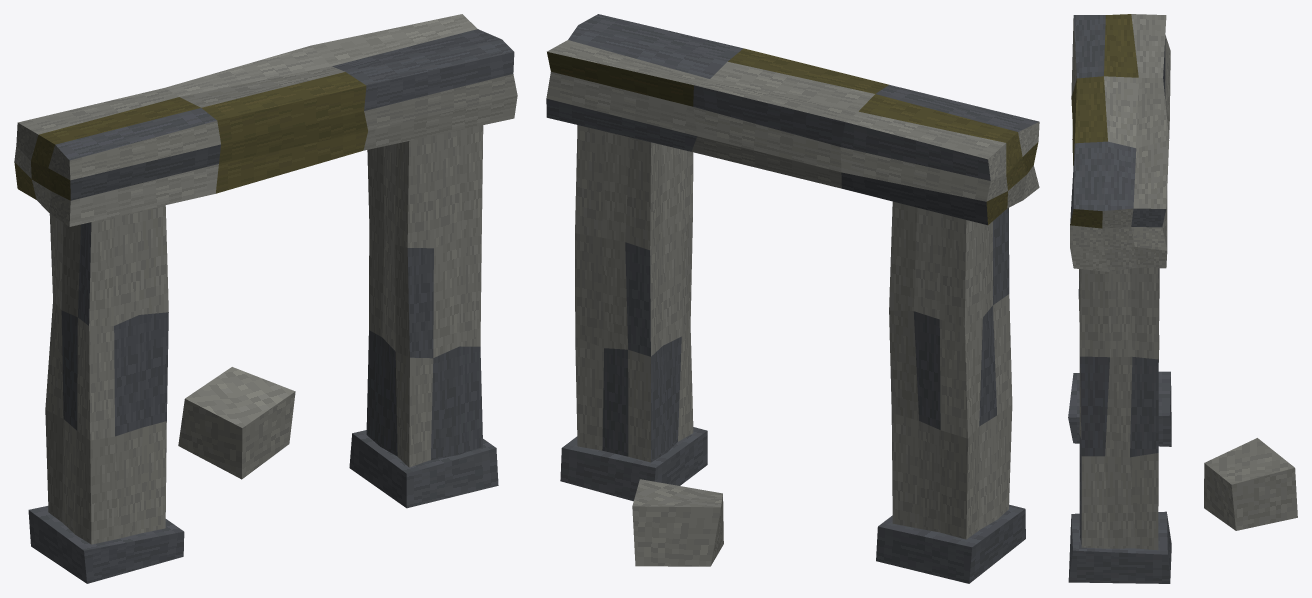
File: ruins_arch.glb
3 renders of one model, left to right at view 1: azimuth 30°, elevation 25°; view 2: azimuth 150°, elevation 25°; view 3: azimuth 270°, elevation 25°, orthographic. The views are drawn at different scales.
Visible parts, largest first — view 1: ruins_arch; view 2: ruins_arch; view 3: ruins_arch.
Part boxes in pixels (x1,y1,x2,y2): ruins_arch: (14,14,517,583); ruins_arch: (546,14,1039,583); ruins_arch: (1068,14,1297,583).
Size of the model in its own units: 4.27 by 3.94 by 2.1.
Materials: 1 (1 with a texture image).
